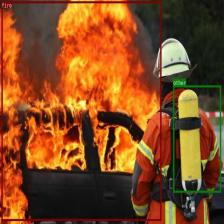fire: (1, 1, 161, 220)
